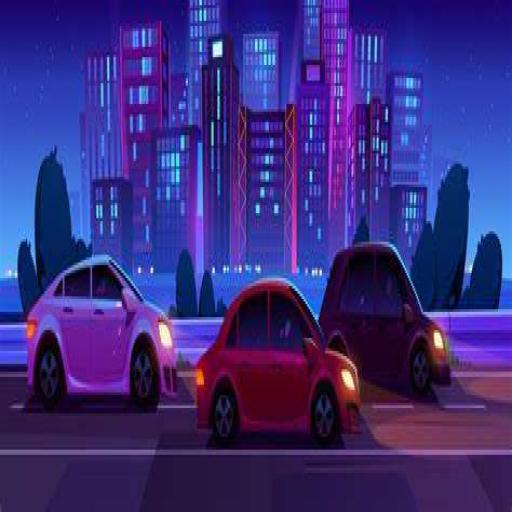car: (196, 277, 364, 455), (320, 232, 471, 391), (30, 264, 177, 403)
